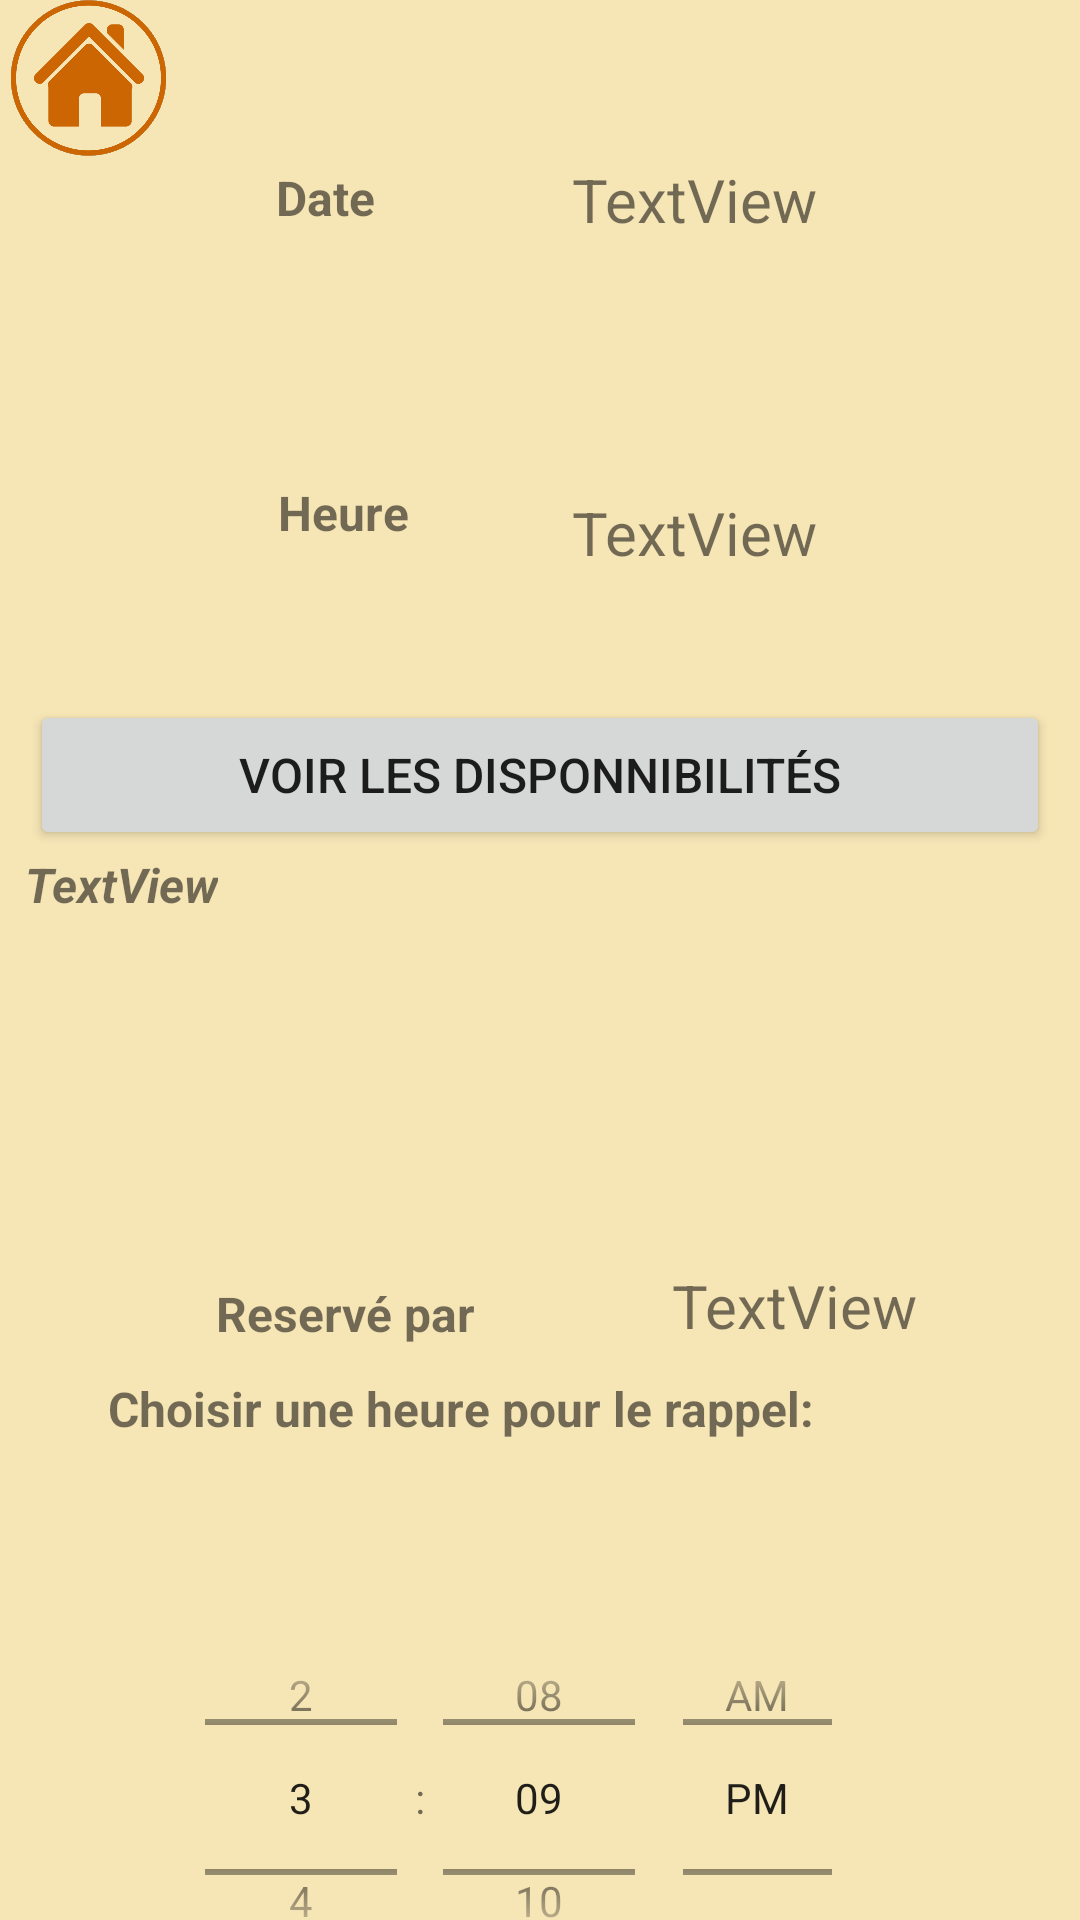

Named icons in this screenshot (1080px×1920px) and their bounding boxes, (x1, y1, x2, y2):
home: (11, 0, 166, 156)
